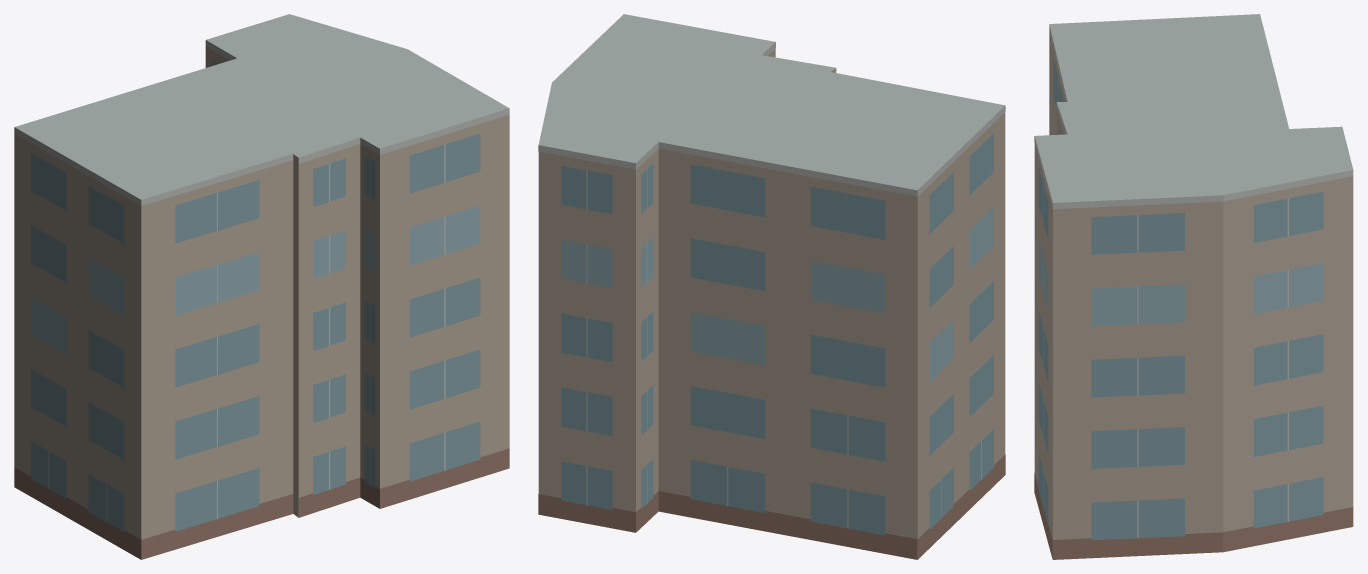
Rendered from survey-upis-32635309.glb.
The picture shows the model from 3 angles, left to right: view 1: azimuth 30°, elevation 25°; view 2: azimuth 150°, elevation 25°; view 3: azimuth 270°, elevation 25°; orthographic projection. The views are drawn at different scales.
Visible parts, largest first — view 1: survey-upis-32635309.tmp; view 2: survey-upis-32635309.tmp; view 3: survey-upis-32635309.tmp.
Boxes of the visible parts, box(x1,y1,x2,y2) form: survey-upis-32635309.tmp: box(14, 14, 509, 559); survey-upis-32635309.tmp: box(538, 14, 1005, 559); survey-upis-32635309.tmp: box(1034, 14, 1353, 559).
Bounding box in the file's own units: 15.91 × 14 × 11.35.
